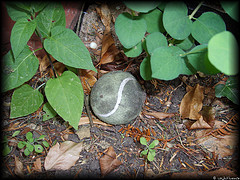tennis ball: (88, 70, 143, 126)
